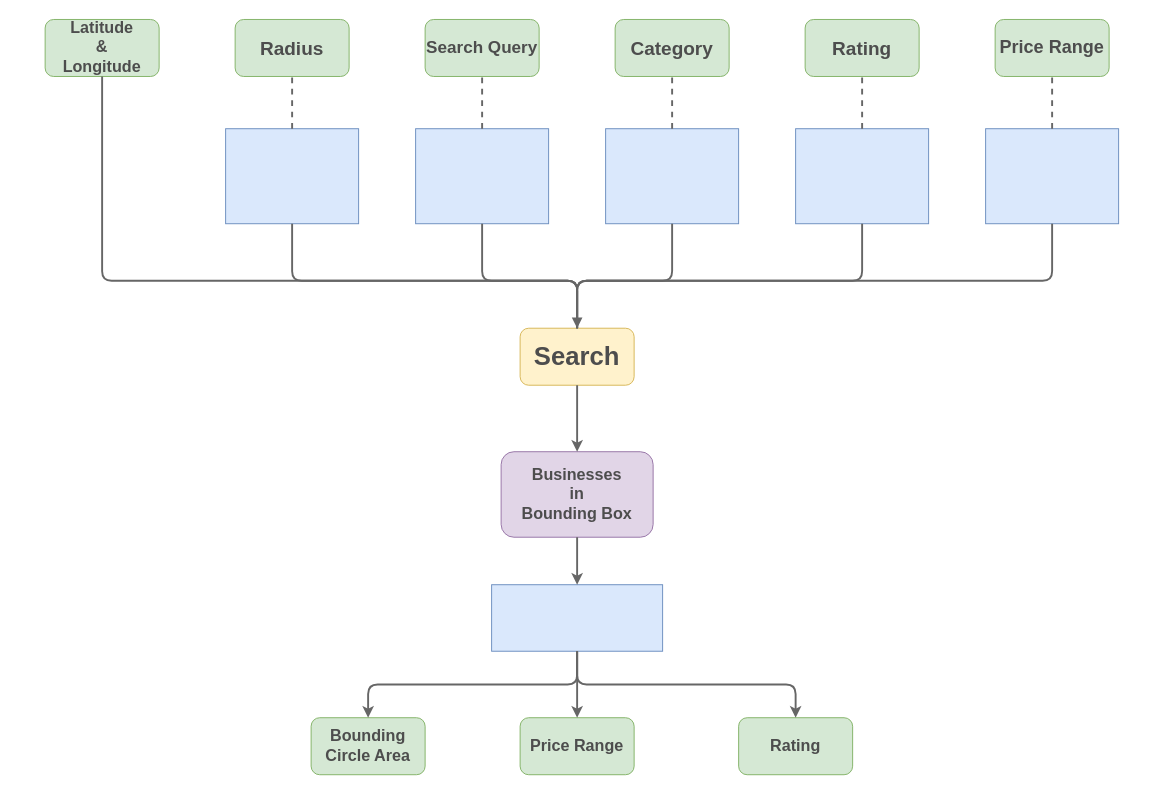
Image size: 1173x793. Some labels were removed from this diagram. The shapes that lost their labels are listed below. From the top down, each one's centre as x and y in pixels, then its label:
At (x=292, y=176): "Between 1 KM to 100 KM Default: 10 KM".
At (x=482, y=176): "Names, Tags and Services Names Default: Empty String".
At (x=672, y=176): "One of the Categories or All Default: All Categories".
At (x=862, y=176): "1/2/3/4 Stars & UP Default: All".
At (x=1052, y=176): "Min and Max Default: Min is 0 Max is Null (No limit)".
At (x=577, y=617): "Filter Results and Intersect results".
